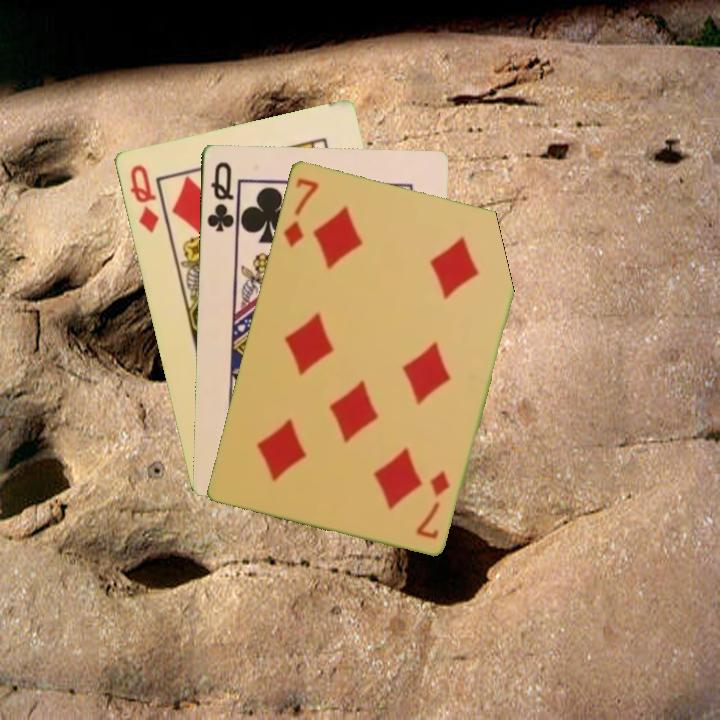7d: (279, 174, 321, 250), (412, 466, 452, 542)
Qc: (203, 158, 236, 234)
Qd: (126, 161, 161, 235)
